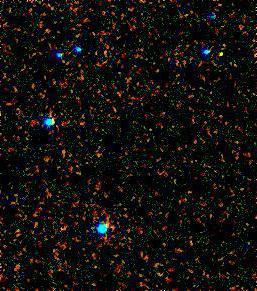star: (207, 38, 237, 68)
